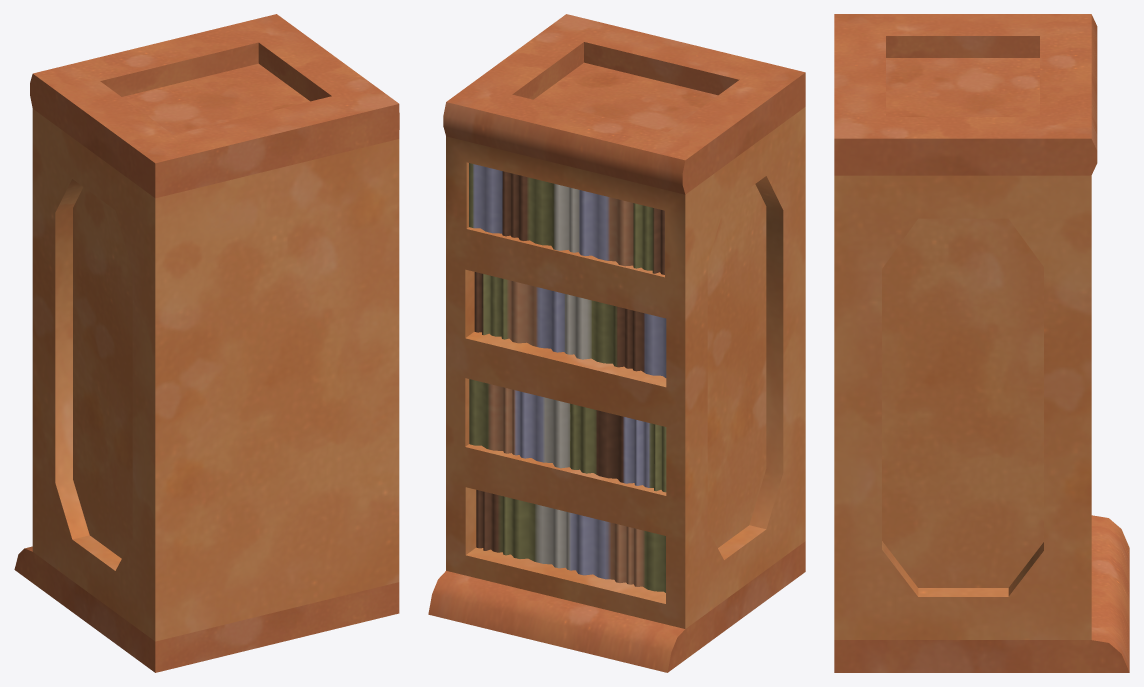
The model's file is SM_Tall_Library_01.fbx.
3 views of the same model, side by side, from view 1: azimuth 30°, elevation 25°; view 2: azimuth 150°, elevation 25°; view 3: azimuth 270°, elevation 25° (orthographic). The views are drawn at different scales.
Parts seen in each view (by area): view 1: SM_Tall_Library_01_pt2, SM_Tall_Library_01_pt1; view 2: SM_Tall_Library_01_pt2, SM_Tall_Library_01_pt1; view 3: SM_Tall_Library_01_pt2, SM_Tall_Library_01_pt1.
Part boxes in pixels (x1=…): SM_Tall_Library_01_pt2: x1=30, y1=14, x2=399, y2=417; SM_Tall_Library_01_pt1: x1=14, y1=328, x2=399, y2=672; SM_Tall_Library_01_pt2: x1=443, y1=14, x2=805, y2=409; SM_Tall_Library_01_pt1: x1=428, y1=322, x2=805, y2=672; SM_Tall_Library_01_pt2: x1=834, y1=14, x2=1097, y2=405; SM_Tall_Library_01_pt1: x1=834, y1=396, x2=1129, y2=672.
Size of the model in its own units: 100 by 200 by 100.
